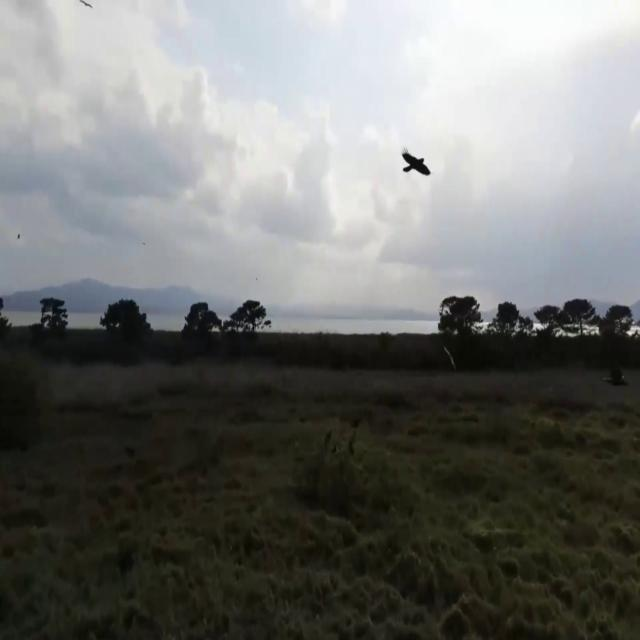bird: (399, 129, 432, 202), (79, 0, 93, 19)
